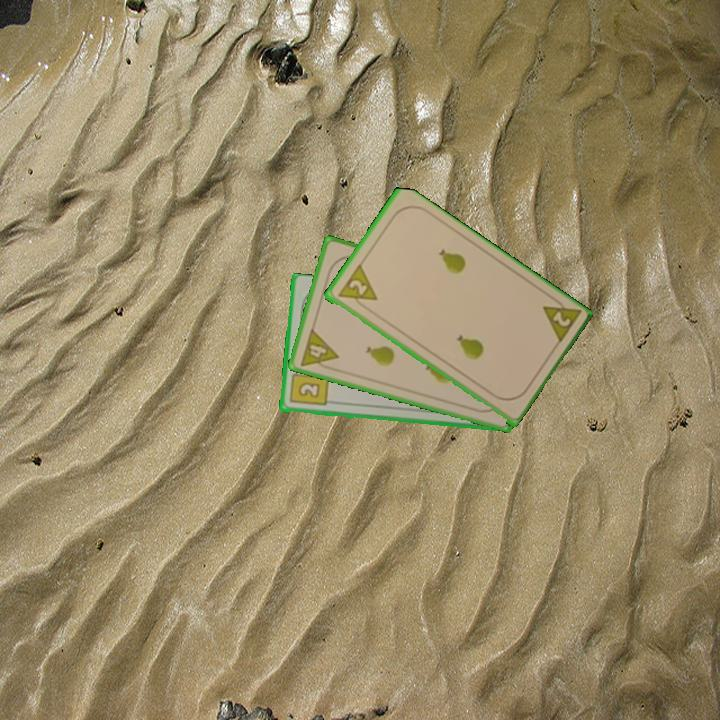2b: (286, 364, 330, 409)
2p: (538, 292, 583, 348), (333, 262, 380, 313)
4p: (296, 325, 341, 374)
